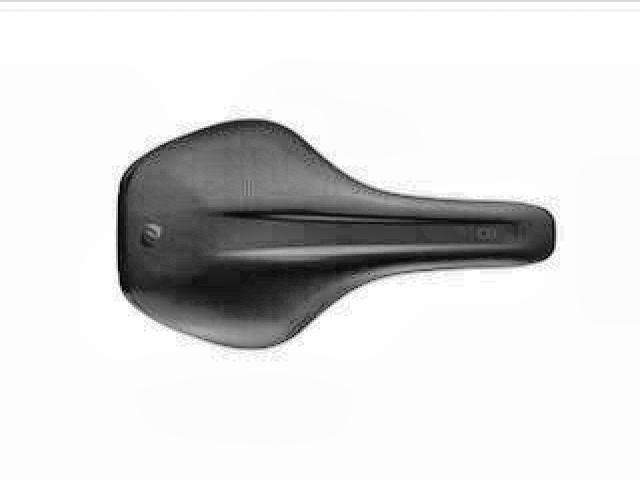saddle: (102, 112, 562, 349)
